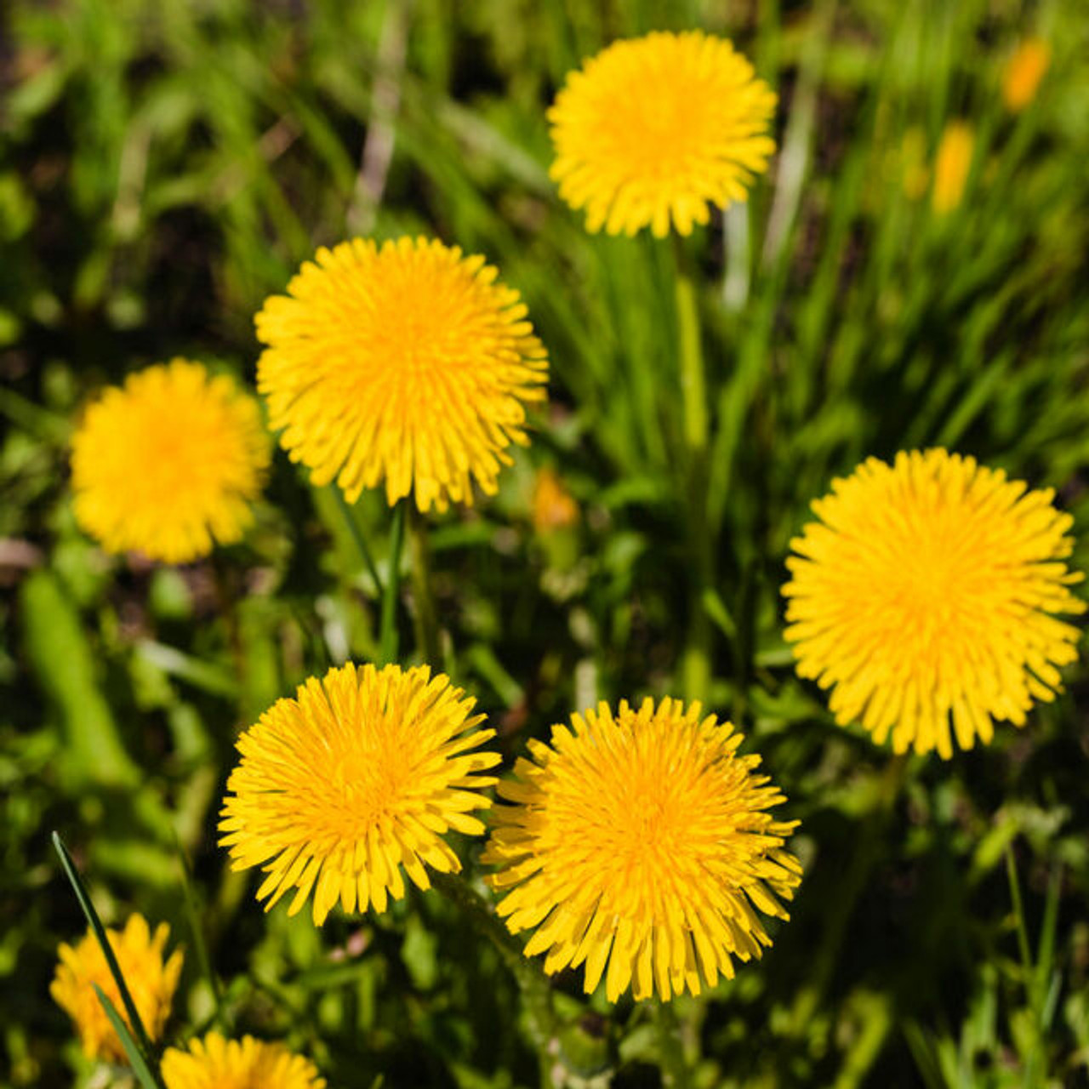begonvil: (500, 684, 812, 1043), (781, 434, 1085, 787), (256, 236, 574, 533), (202, 653, 504, 950), (49, 330, 292, 608), (537, 18, 801, 249), (131, 1010, 370, 1089)
